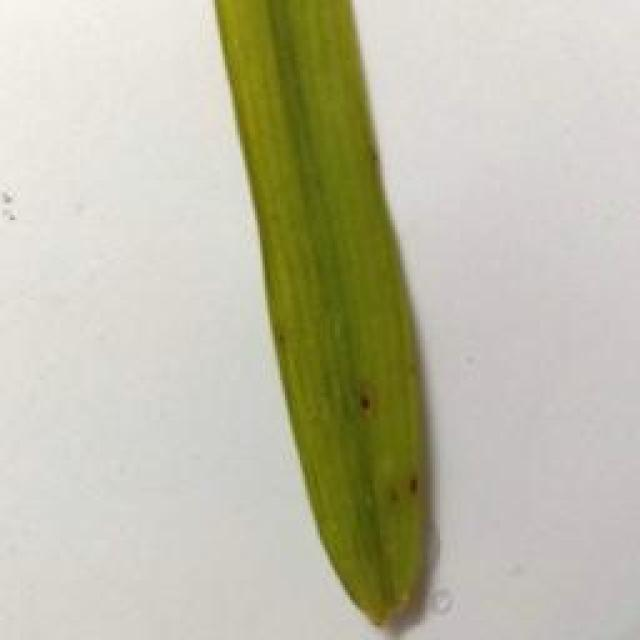Brown_Spot: (381, 476, 418, 520), (399, 464, 437, 496), (350, 383, 382, 417)
